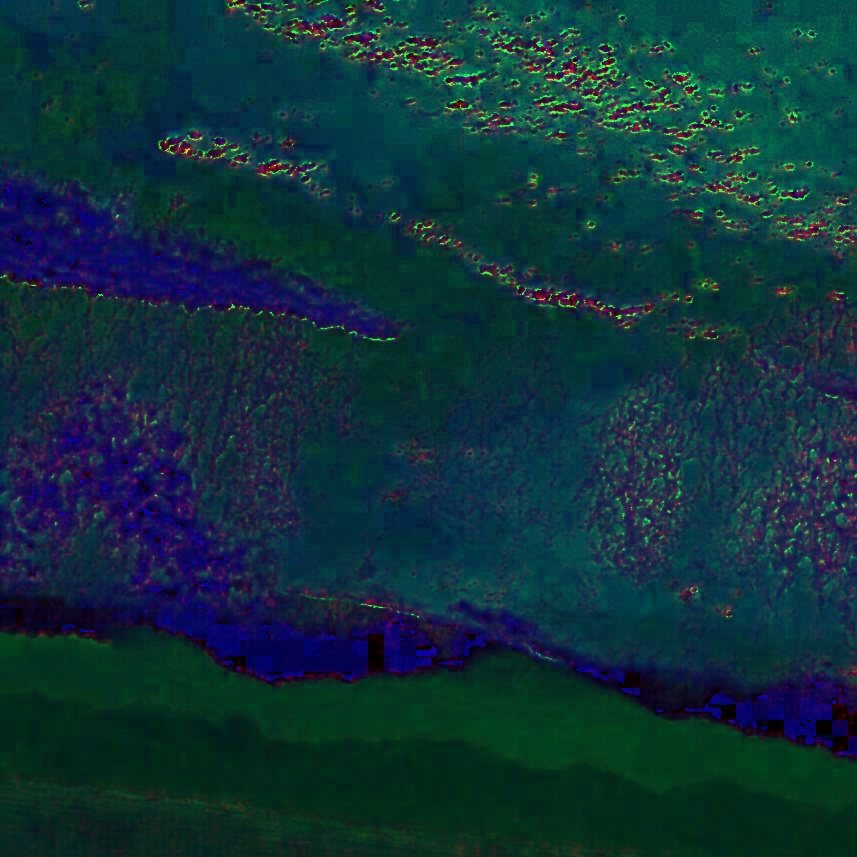rip_current: (298, 196, 646, 629)
